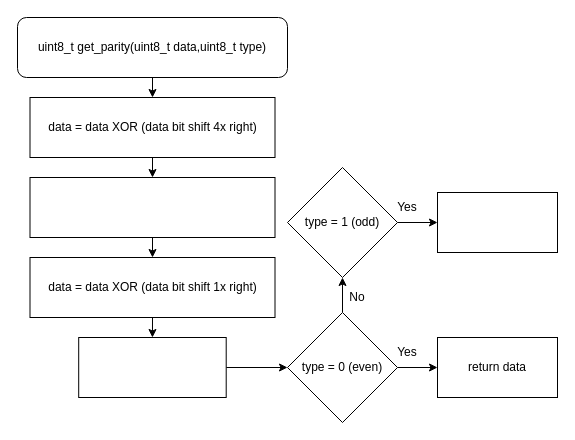
Image size: 575x440. Some labels were removed from this diagram. Each missing label, with the centre of its shape:
data = data AND 1: the point at 152,367
data = data XOR (data bit shift 2x right): the point at 152,207
return NOT data: the point at 497,222
